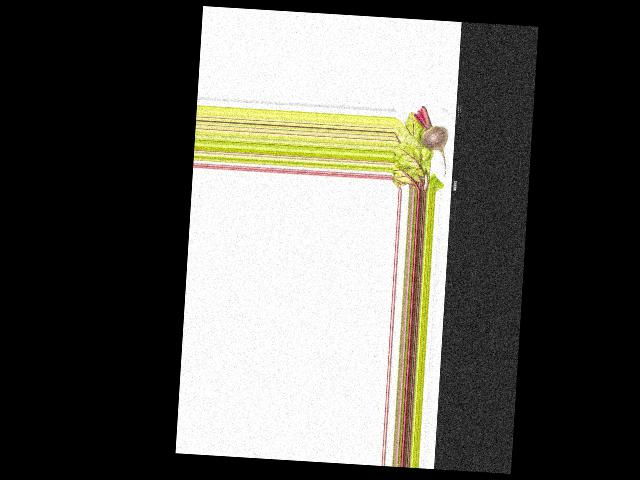beet: (410, 105, 450, 176)
